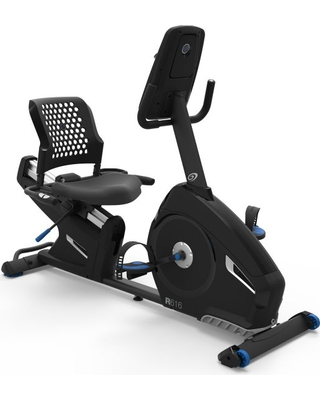gym_bike: (12, 35, 318, 364)
